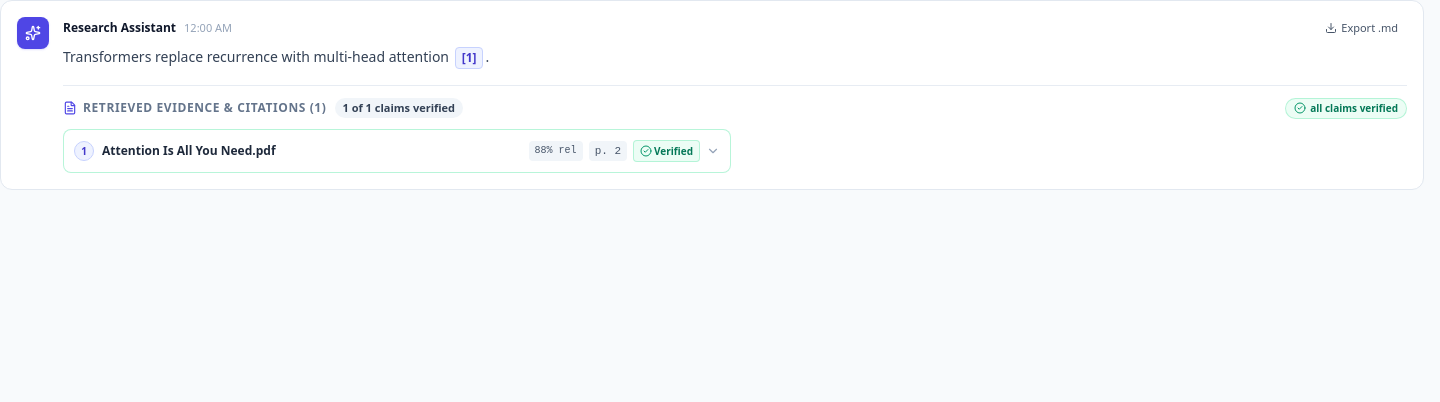
Frontend Component Tests: ChatMessage › renders interactive inline citation buttons and opens evidence card on click
This screenshot has width=1440, height=402.
Note: Click inline citation button to expand evidence card
Click the button "[1]". click: (469, 58)
box: [455,46,484,68]
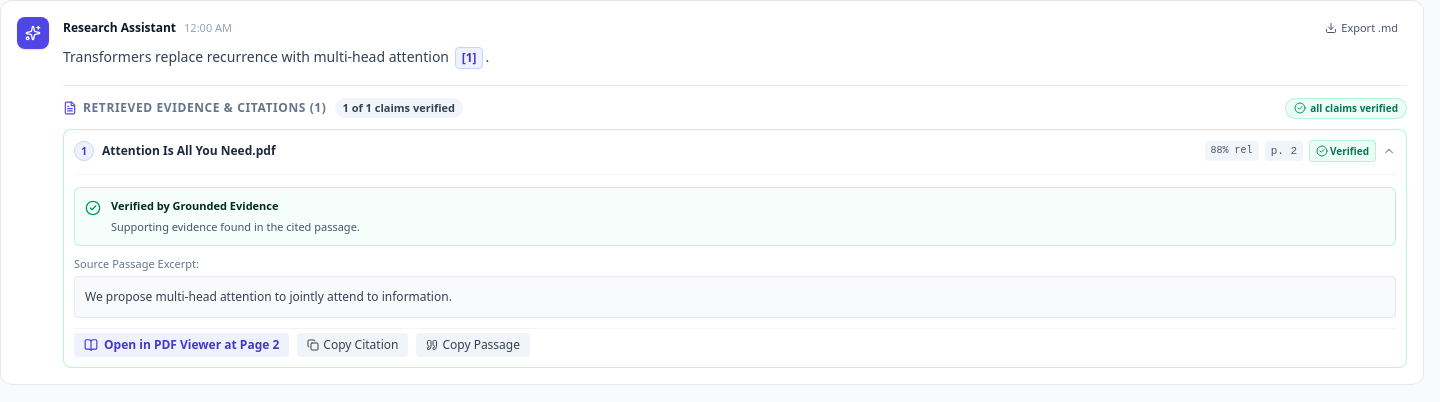
Result: the text "We propose multi-head attention to jointly attend to information." is shown at [85,288,452,305]
